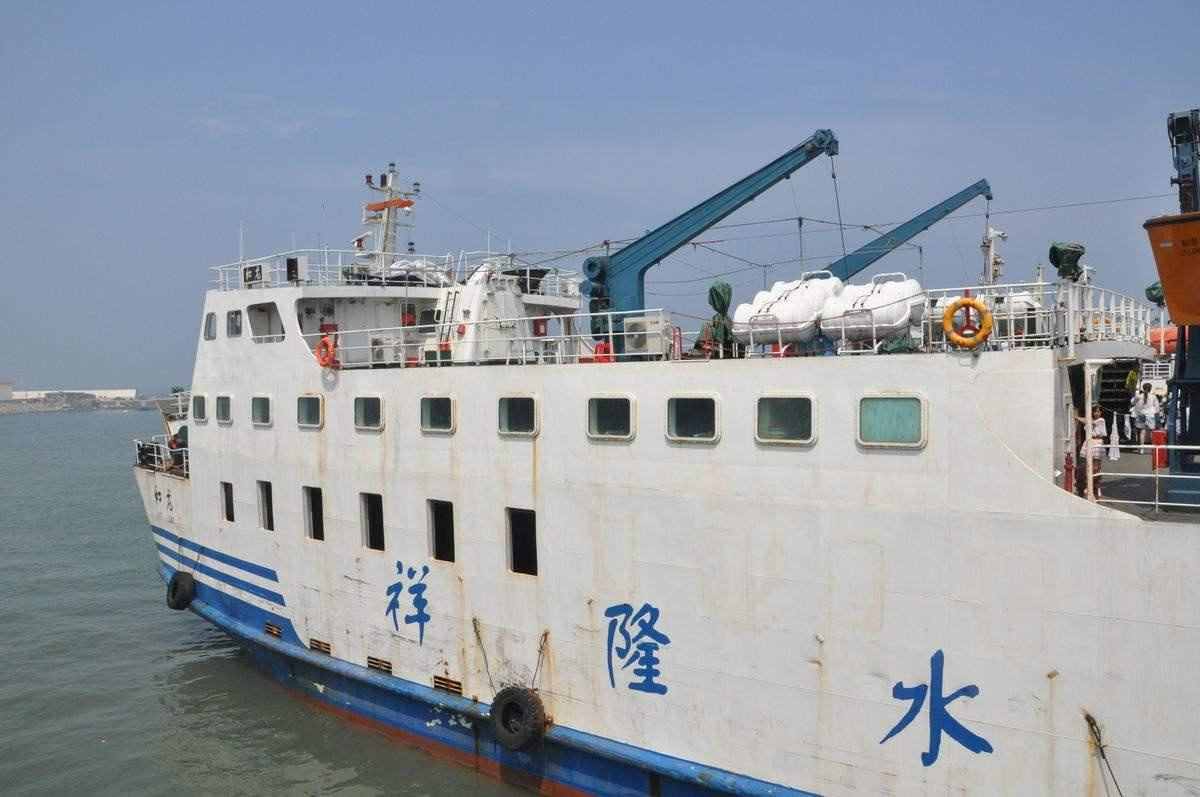otherboat: (115, 149, 1200, 797)
